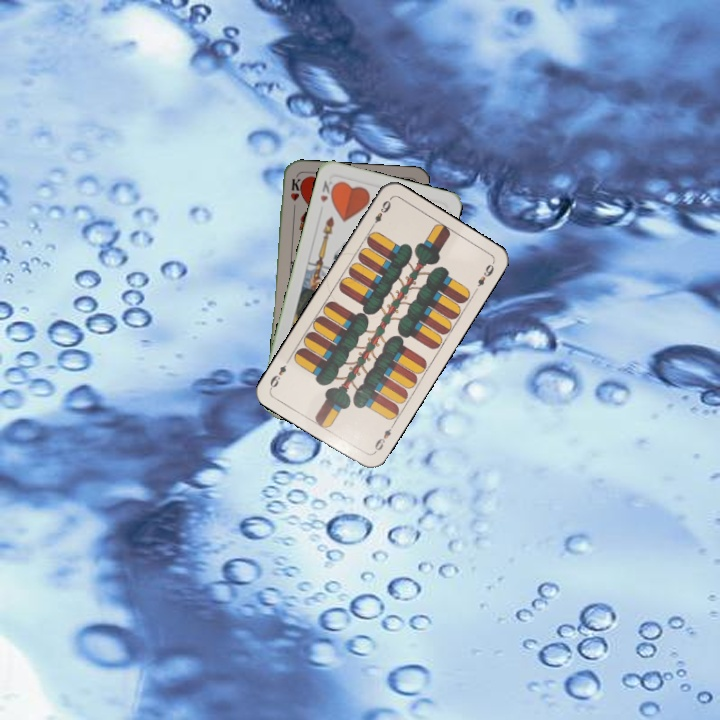E9: (370, 420, 397, 456), (367, 196, 394, 231)
HK: (286, 175, 303, 215), (316, 176, 338, 205)
